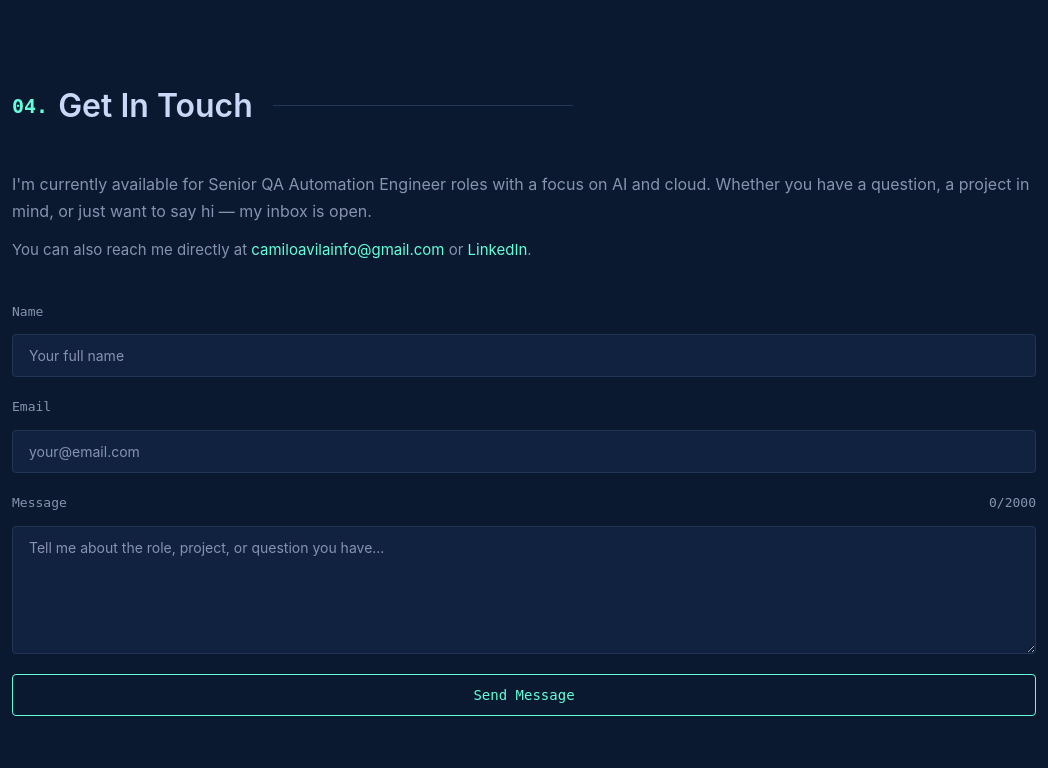
it: ContactForm › Field Validation › shows error when email is empty on submit
Type "John Doe" into the field labelled "Name" at (524, 356), box [12,334,1036,377]
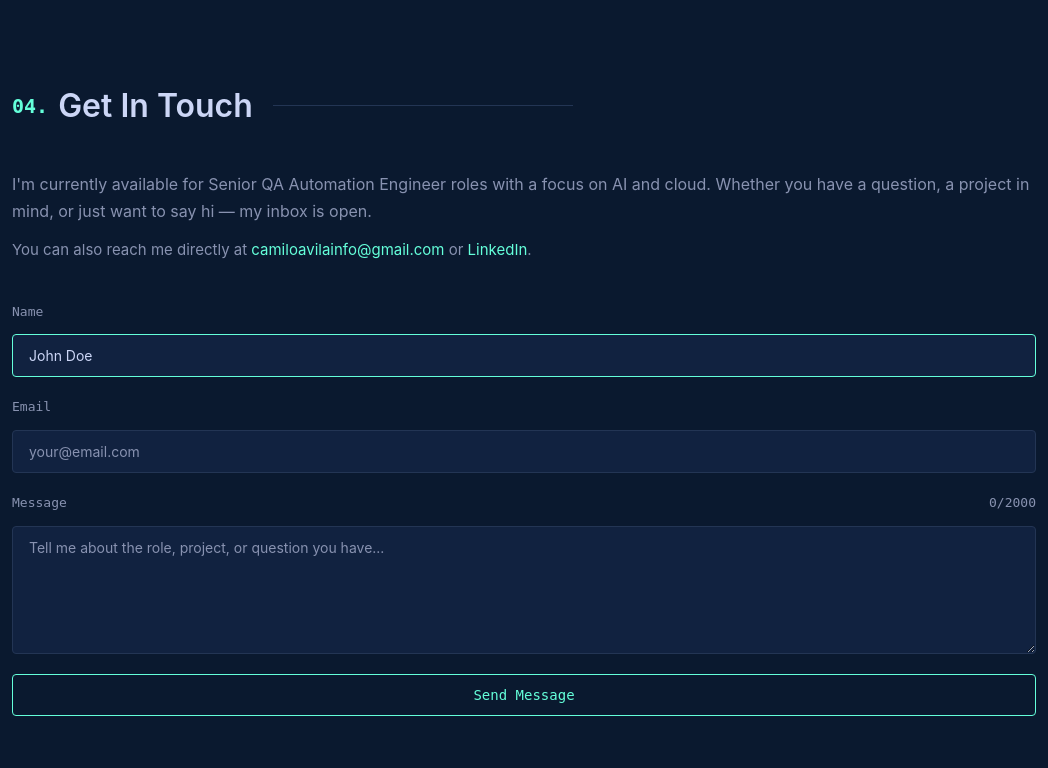
Type "Test message" into the text box labelled "Message 0/2000" at (524, 590), box [12,526,1036,654]
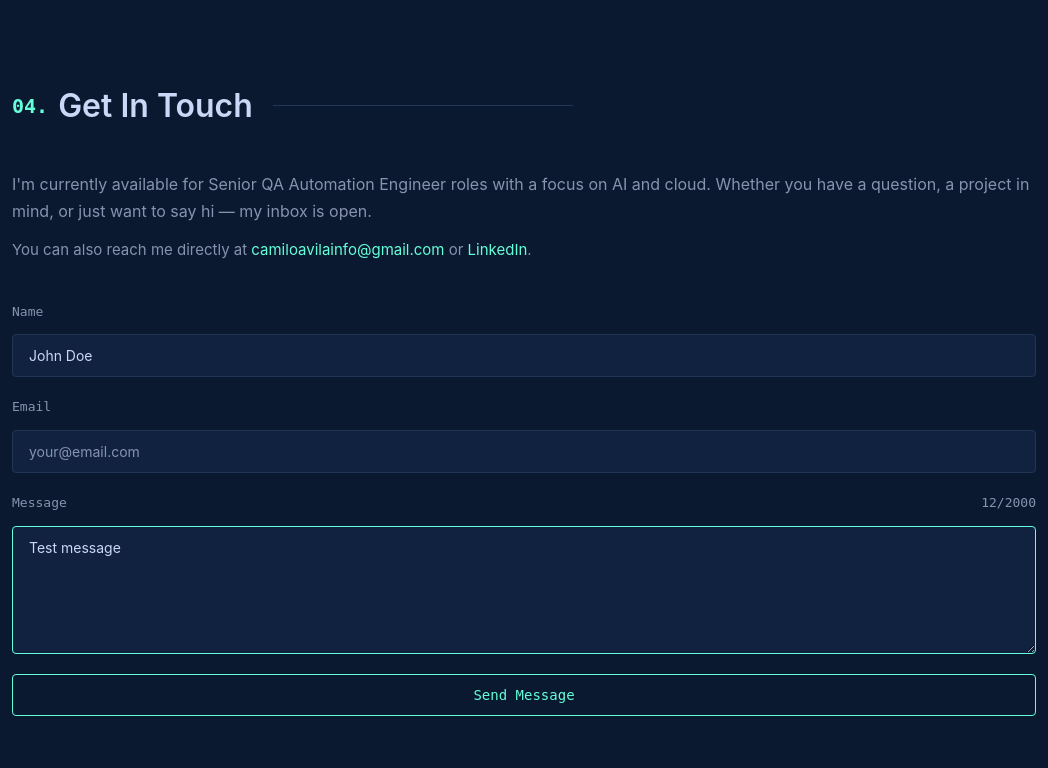
Click the button "Send Message" at (524, 695), box [12,674,1036,716]
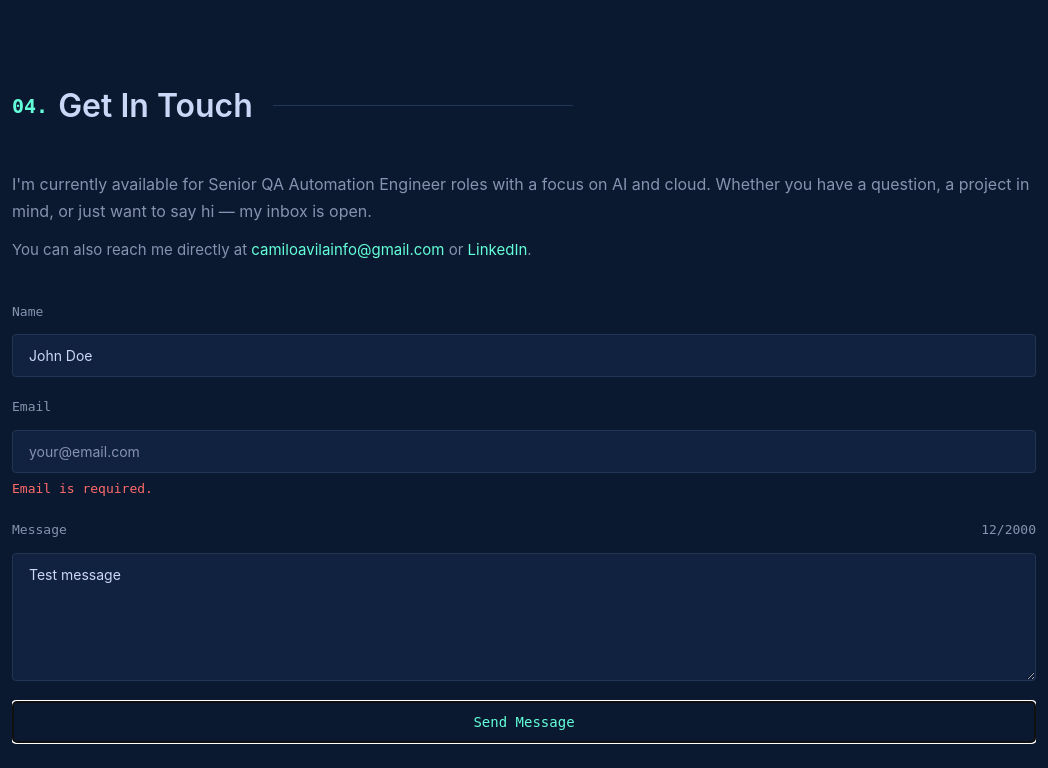
Now the text "Email is required." is shown, box [12,481,153,496]
